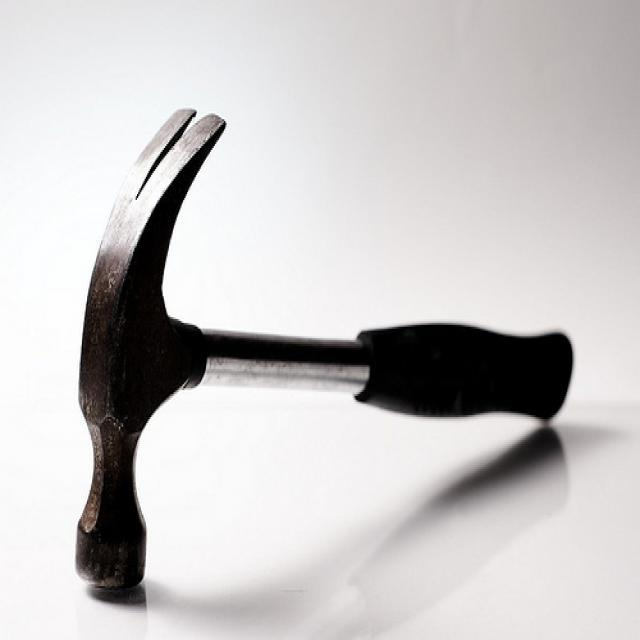hammer: (65, 87, 576, 605)
